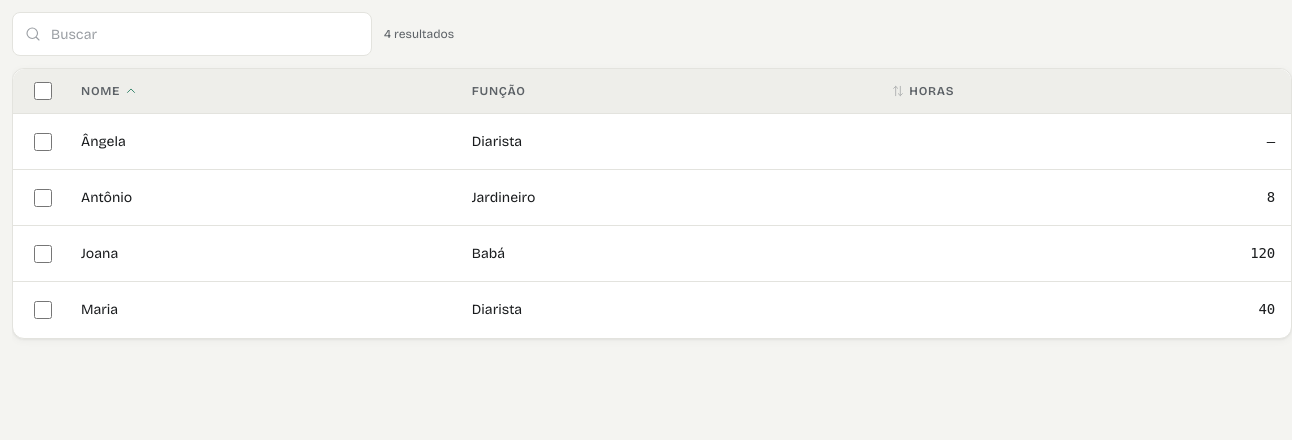
Test: DataTable › selection › selects the run between two rows with shift-click
Click the checkbox next to "Ângela": (43, 142) [34,132,52,150]
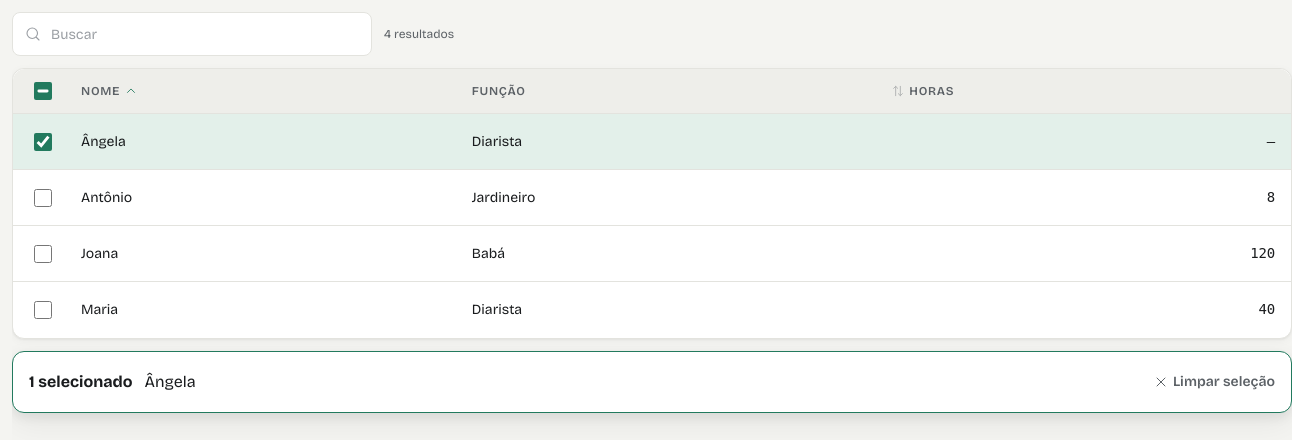
Click the checkbox next to "Joana": (43, 254) [34,244,52,262]
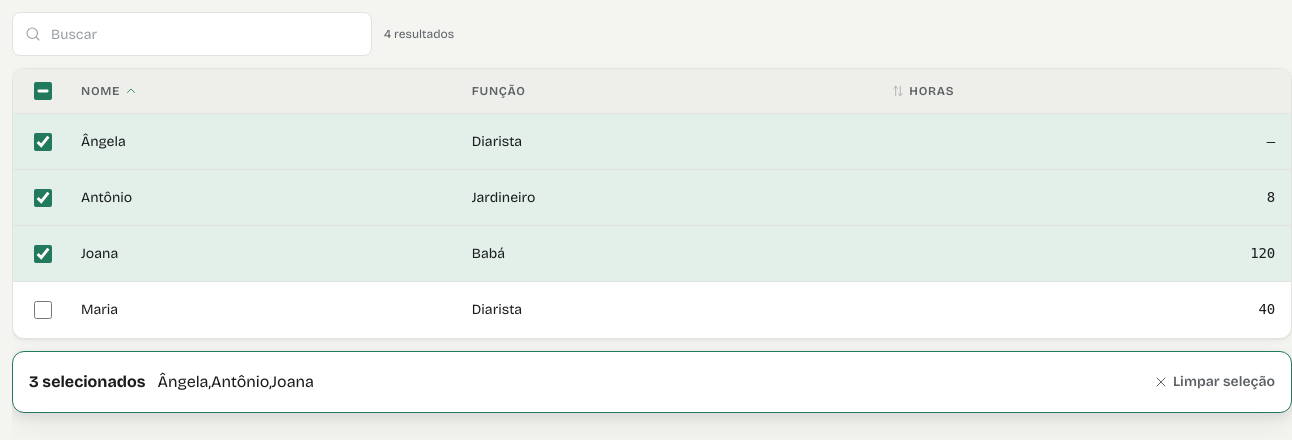
Expected: the button with class "bulk-act" reads "Ângela,Antônio,Joana", [158,370,314,394]
